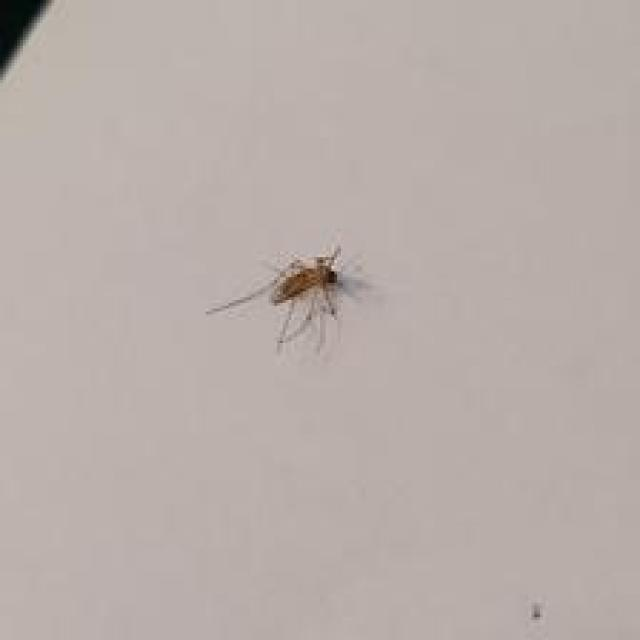Culex: (204, 241, 379, 356)
